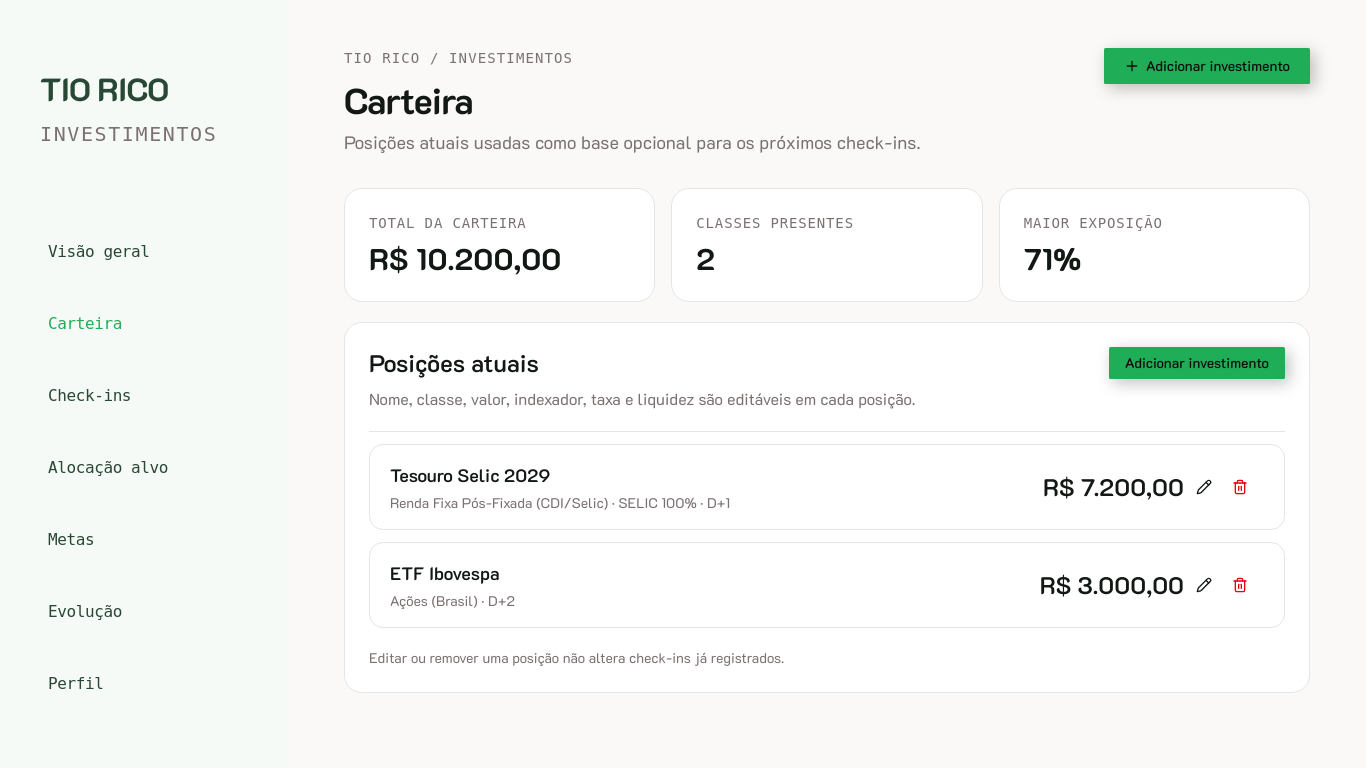
Test case: Wallet (carteira) › adiciona um investimento com POST e os dados convertidos
expect the list named "Investimentos atuais" is shown: met, box [369,444,1285,628]
Click the button "Adicionar investimento" in the row of "TIO RICO / INVESTIMENTOS": (1207, 66) [1104,48,1310,84]
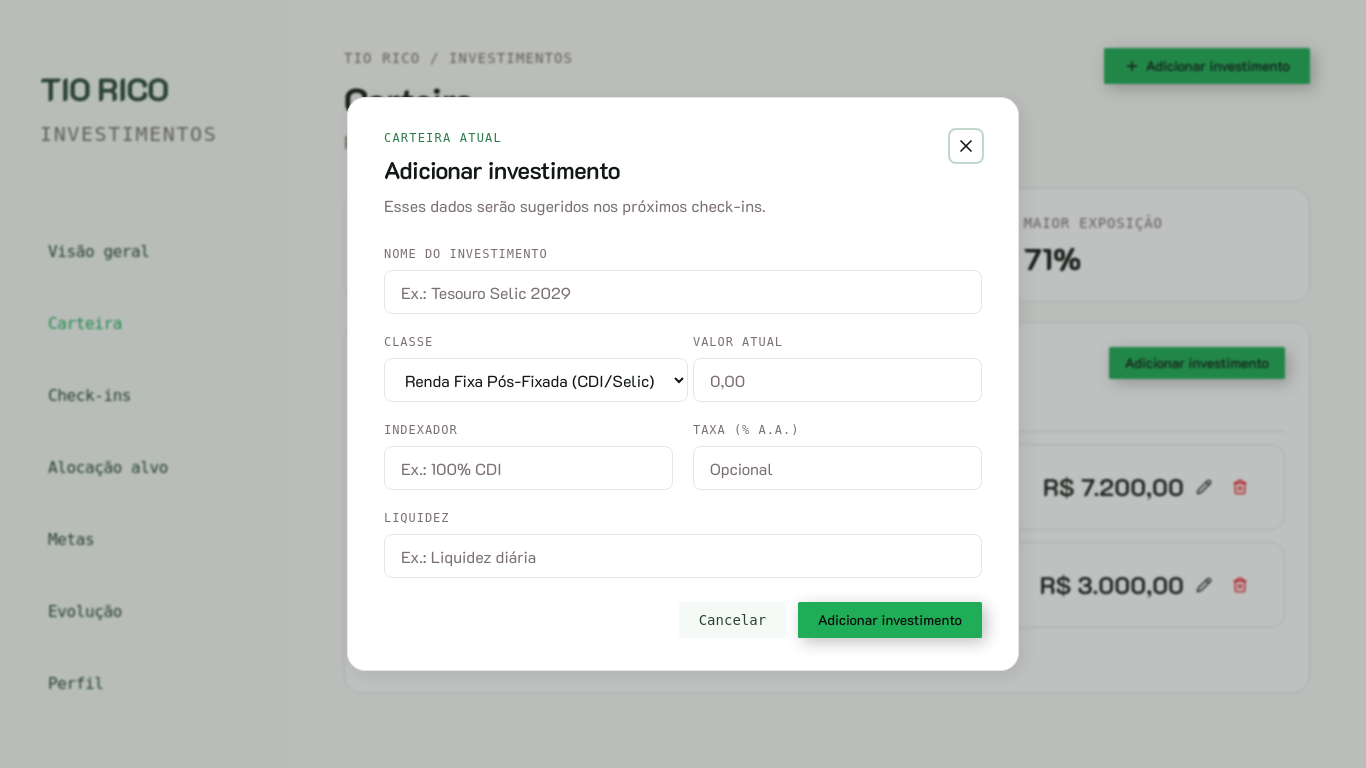
In the field labelled "Nome do investimento": (683, 292) [384,270,982,314], type "CDB 110% CDI"
In the field labelled "Valor atual": (838, 380) [693,358,982,402], type "1.500,50"
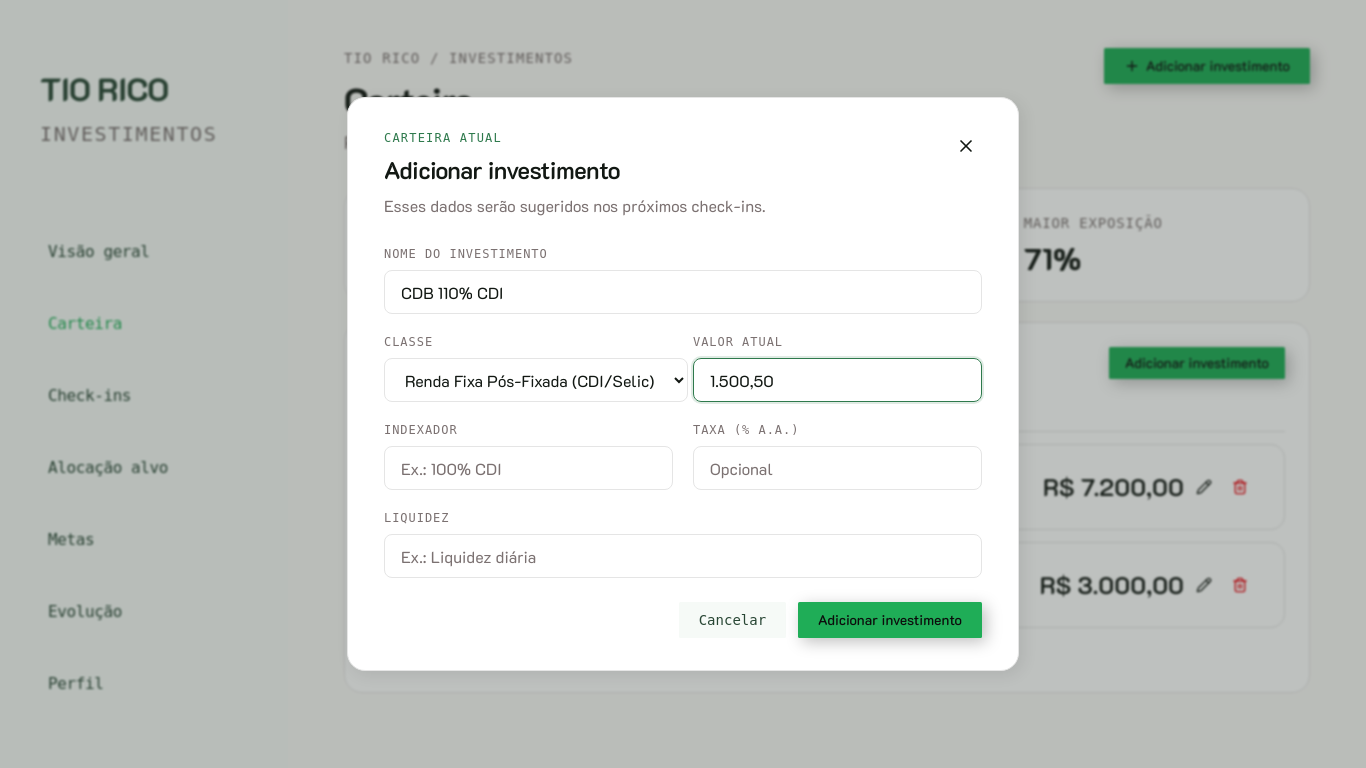
In the field labelled "Indexador": (528, 468) [384,446,673,490], type "CDI"
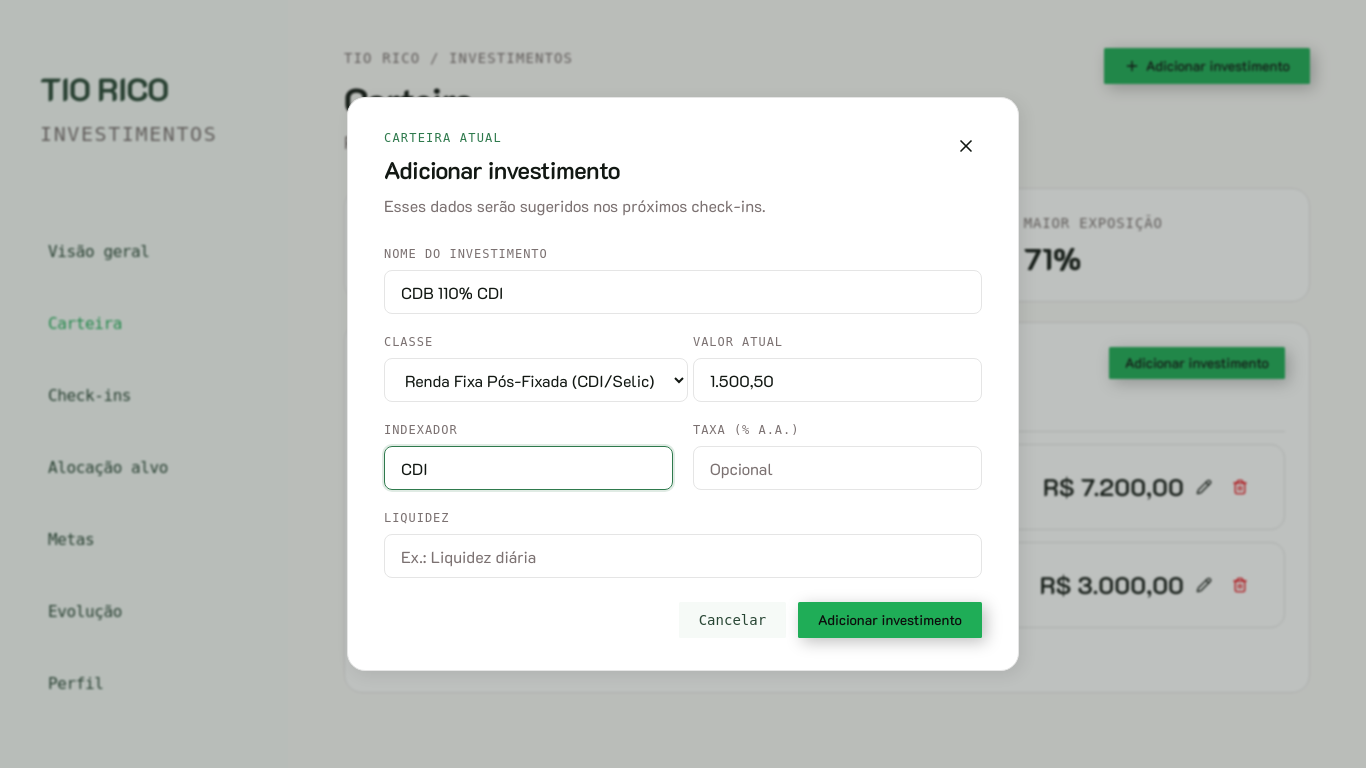
In the field labelled "Taxa (% a.a.)": (838, 468) [693,446,982,490], type "110"
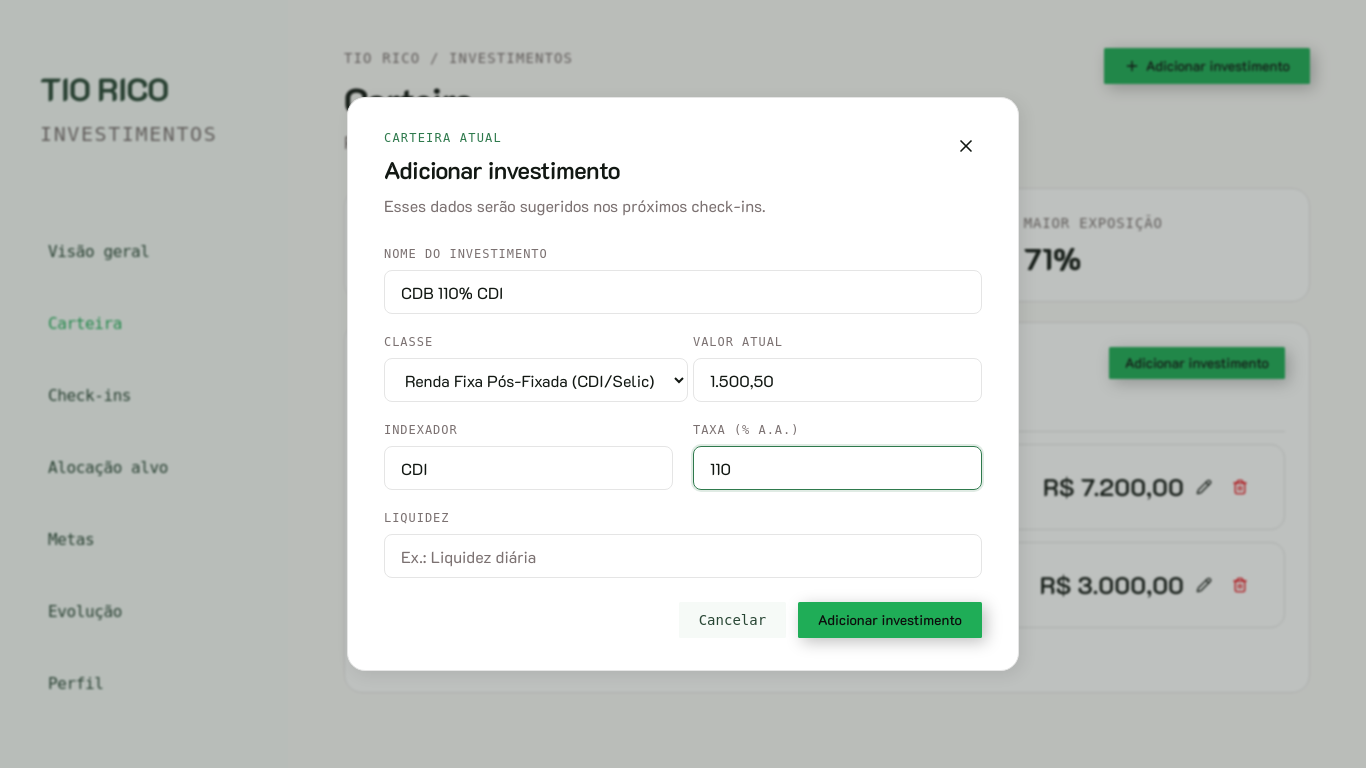
In the field labelled "Liquidez": (683, 556) [384,534,982,578], type "Diária"
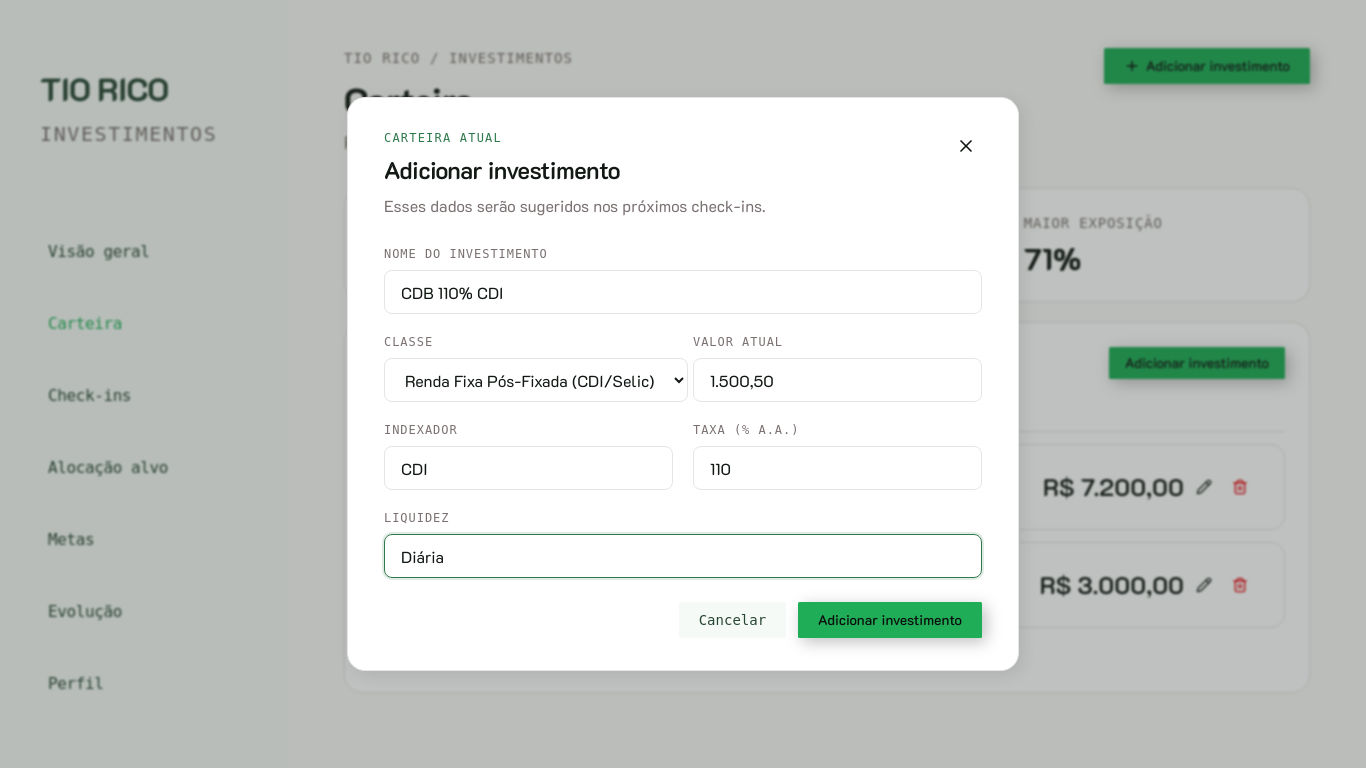
Click the button "Adicionar investimento": (890, 620) [798,602,982,638]
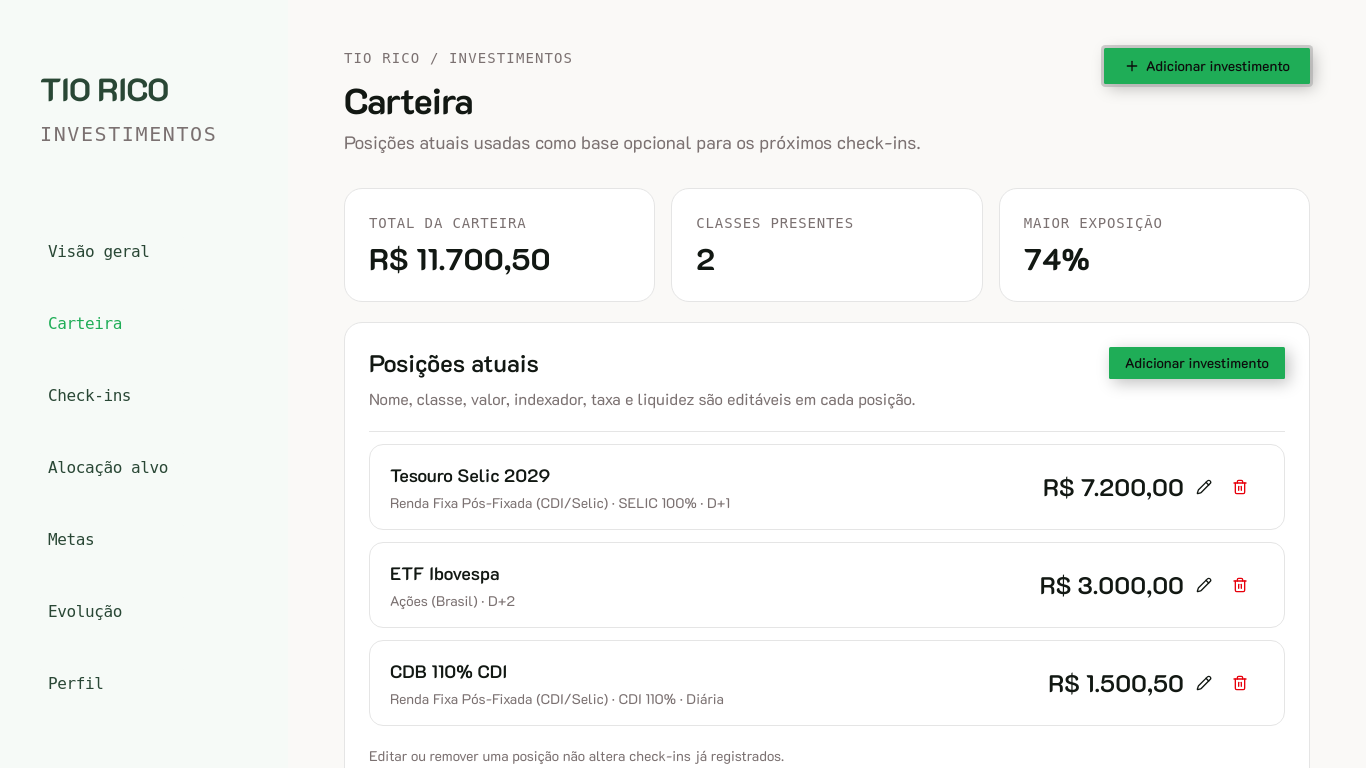
expect the heading "CDB 110% CDI" is shown: met, box [390,659,507,683]
